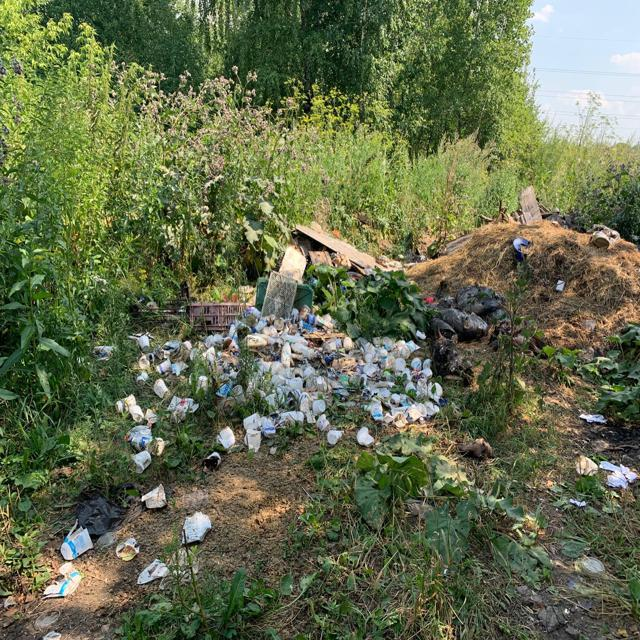lixeira: (233, 308, 356, 423), (426, 284, 509, 381), (356, 335, 443, 423), (130, 333, 190, 398), (114, 393, 163, 471), (193, 336, 243, 402), (47, 528, 93, 596), (572, 453, 639, 490), (206, 425, 234, 473), (243, 414, 276, 453), (180, 513, 213, 544), (326, 426, 374, 446), (166, 395, 198, 423), (136, 560, 168, 585), (140, 484, 166, 508), (114, 537, 140, 561), (94, 346, 117, 359)
